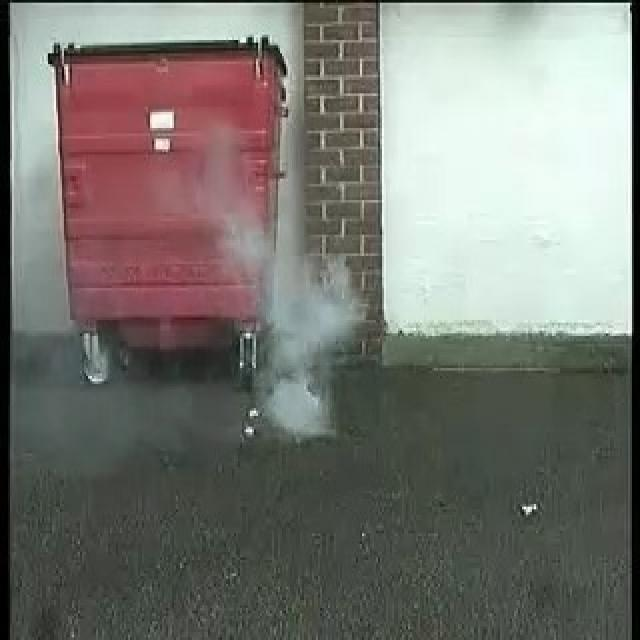smoke: (238, 218, 350, 439)
